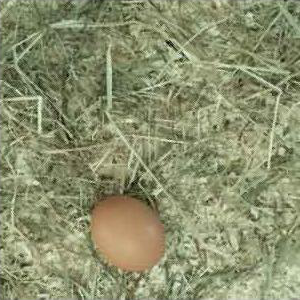egg: (91, 196, 163, 270)
